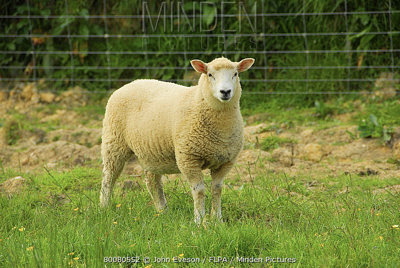koyun: (99, 56, 254, 223)
